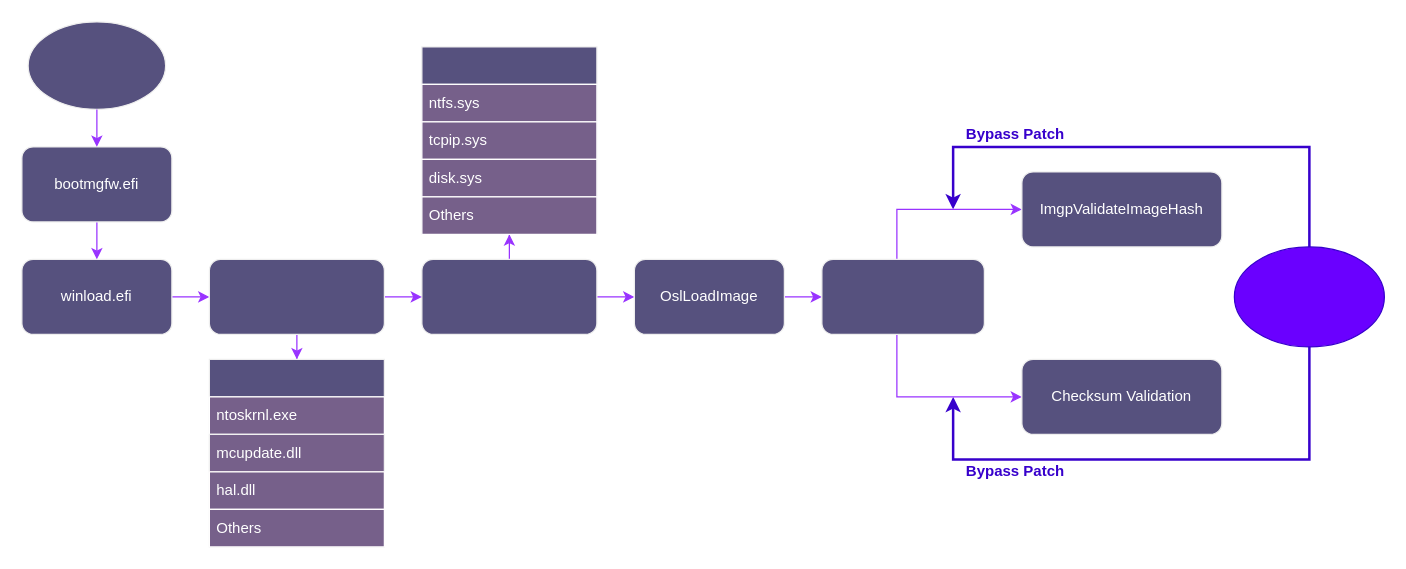
Some shapes in this 1406 by 569 pixel diagram are drawn without their labels. Each missing label, with the box of its shape:
Boot Drivers: (421, 46, 597, 234)
Boot Process: (27, 21, 166, 109)
Core Modules: (208, 358, 384, 547)
Elysium Bootkit: (1233, 246, 1384, 347)
ImgpLoadPEImage: (821, 258, 984, 334)
OslLoadDrivers: (421, 258, 597, 334)
OslpLoadAllModules: (208, 258, 384, 334)
